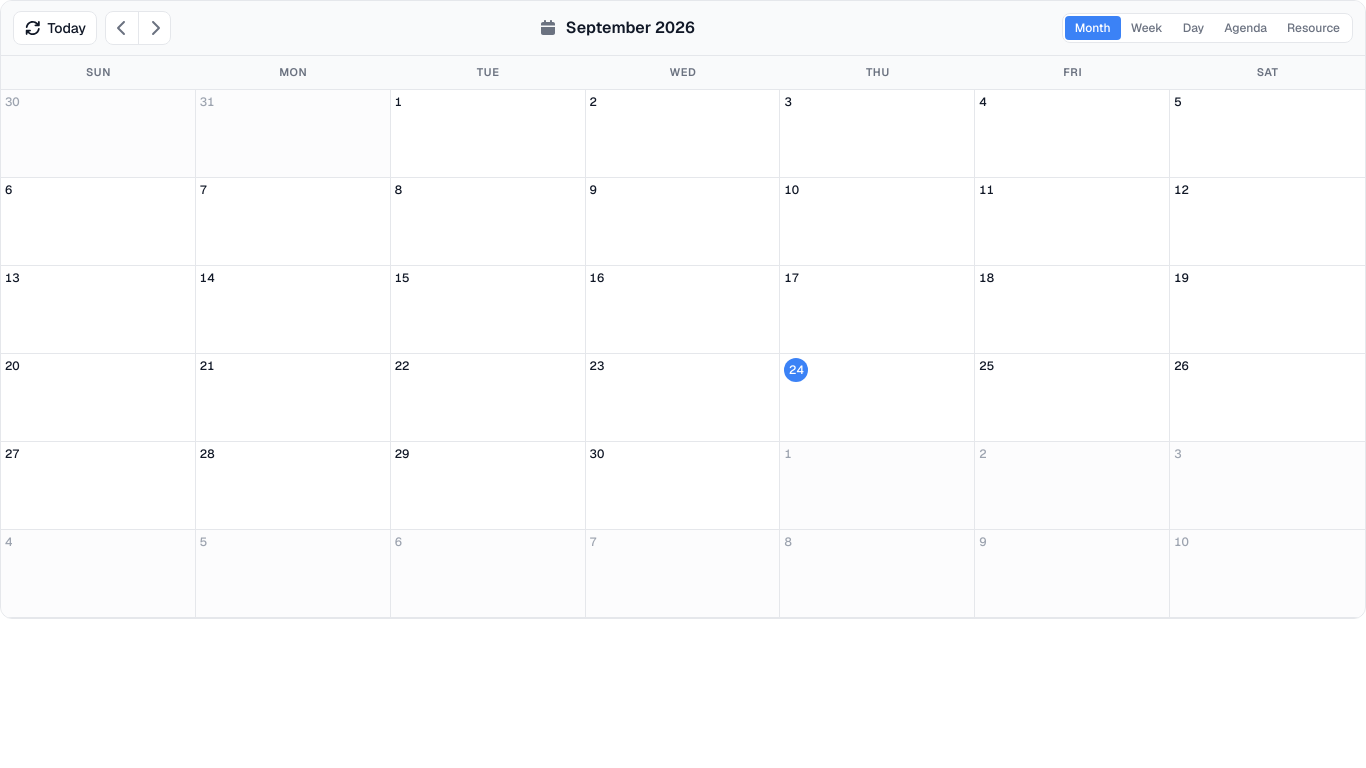
Test: <Calendar /> navigation › pages months with the header buttons and reports every move
Step 1. Click the button named "Next" → (154, 28), box [138, 12, 170, 44]
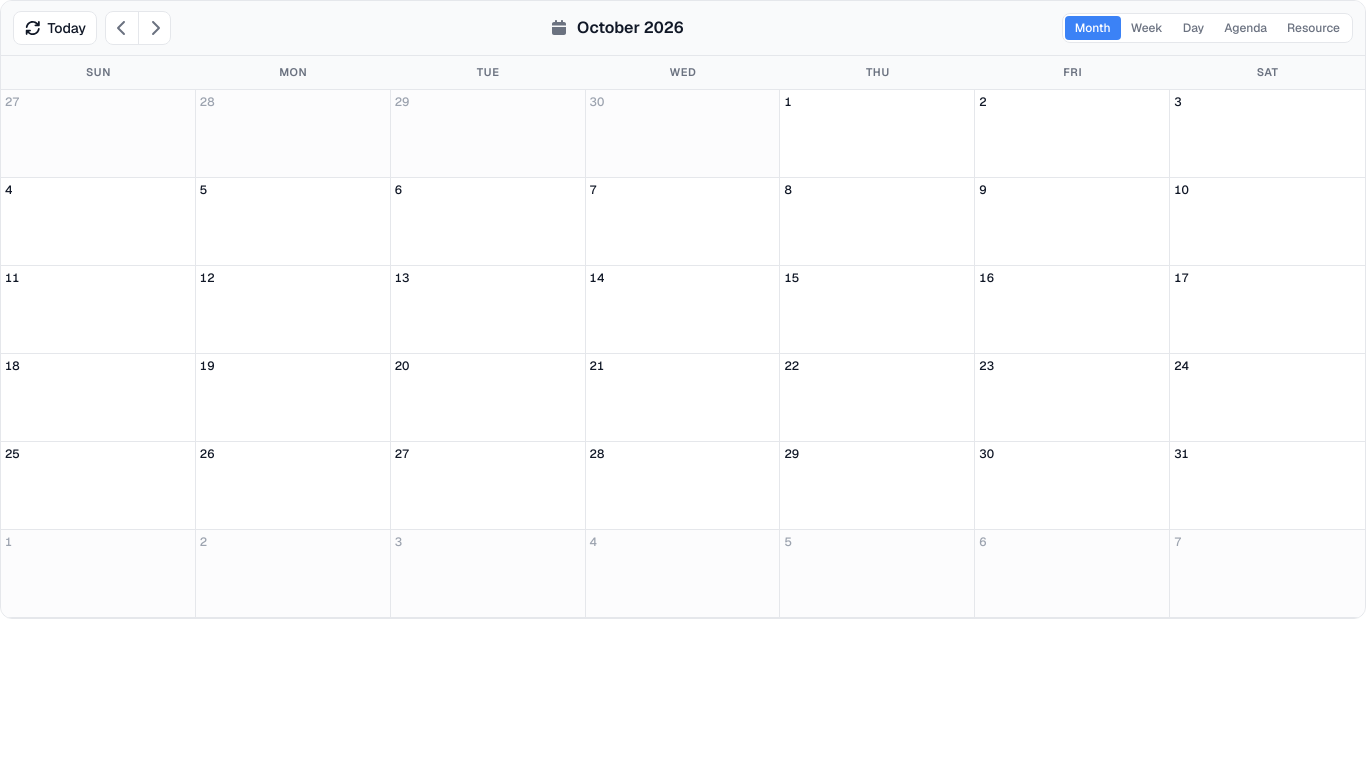
expect the heading reads "October 2026": met, box [577, 17, 684, 38]
Step 2. Click the button named "Previous" → (122, 28), box [106, 12, 138, 44]
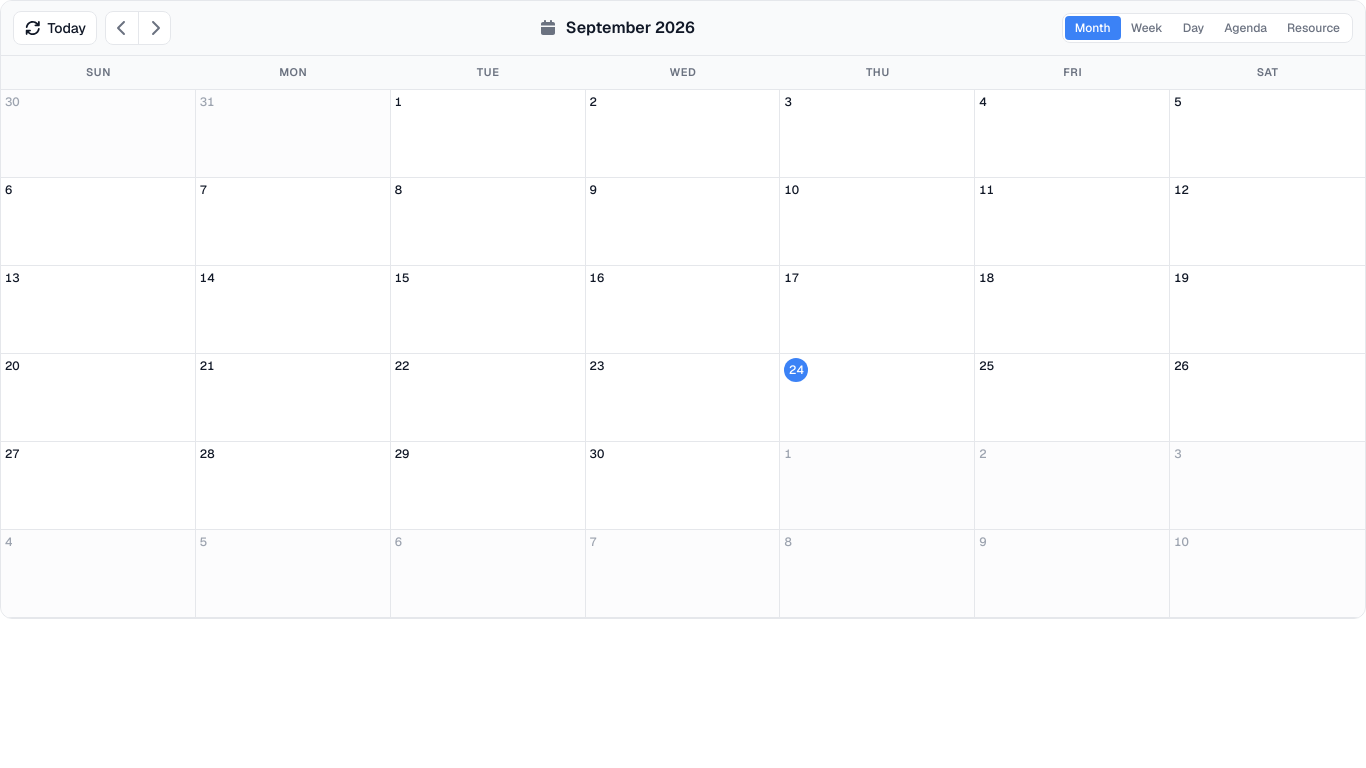
Step 3. Click the button named "Previous" → (122, 28), box [106, 12, 138, 44]
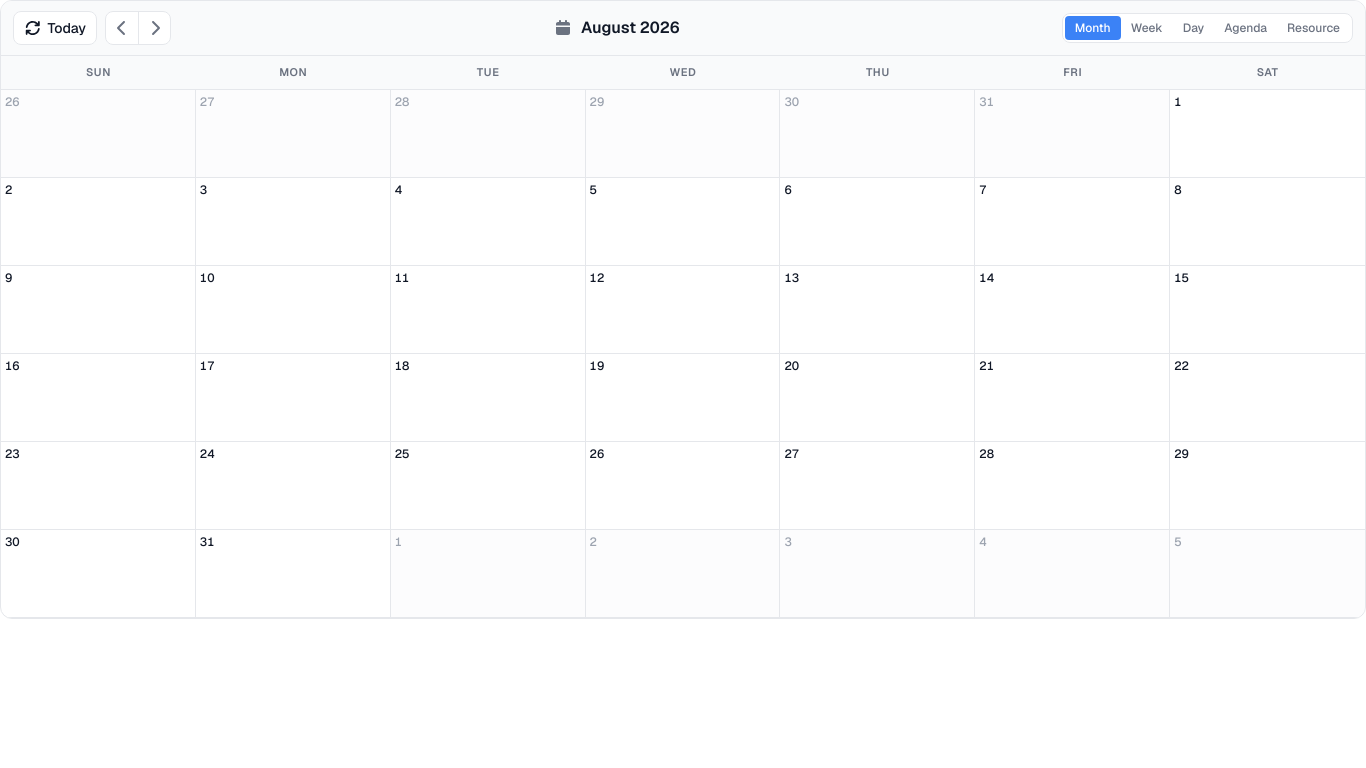
expect the heading reads "August 2026": met, box [581, 17, 680, 38]
